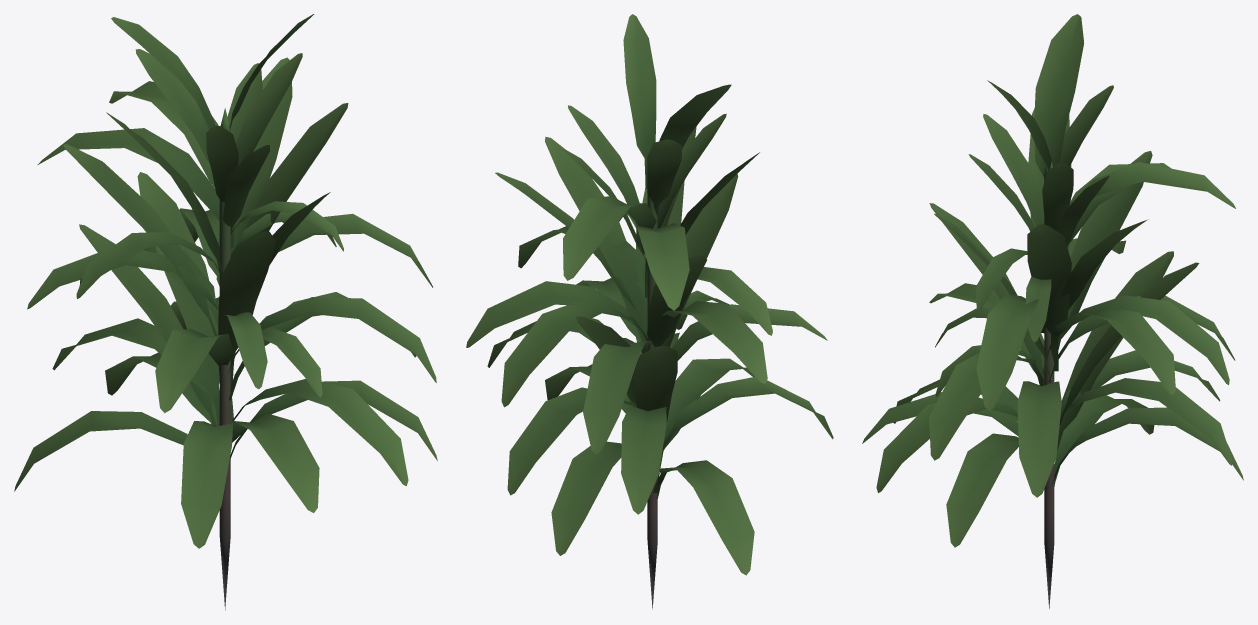
The model's file is plants-leafy-plants-dragon-plant_v3.fbx.
The picture shows the model from 3 angles, left to right: view 1: azimuth 30°, elevation 25°; view 2: azimuth 150°, elevation 25°; view 3: azimuth 270°, elevation 25°; orthographic projection. The views are drawn at different scales.
Visible parts, largest first — view 1: Dragon Plant_v3; view 2: Dragon Plant_v3; view 3: Dragon Plant_v3.
Part boxes in pixels (x1,y1,x2,y2): Dragon Plant_v3: (14, 14, 437, 610); Dragon Plant_v3: (466, 14, 833, 609); Dragon Plant_v3: (862, 14, 1243, 608).
Size of the model in its own units: 0.4726 by 0.8 by 0.4985.
